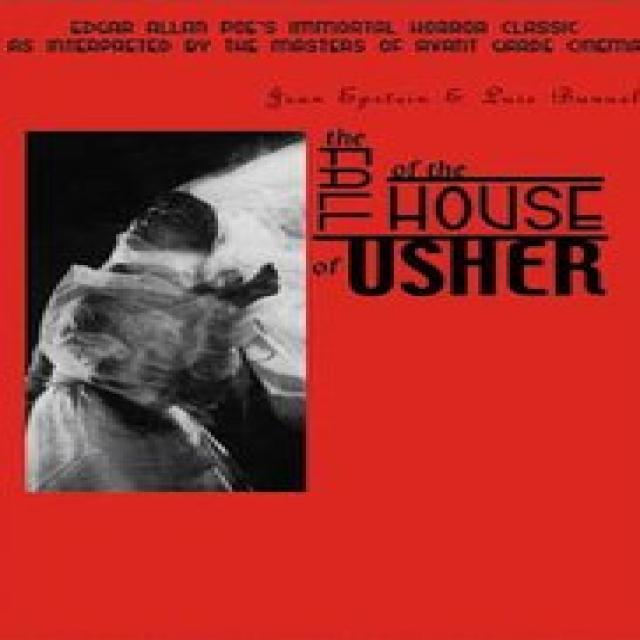movie-judul: (311, 125, 640, 314)
picture: (6, 2, 636, 501)
